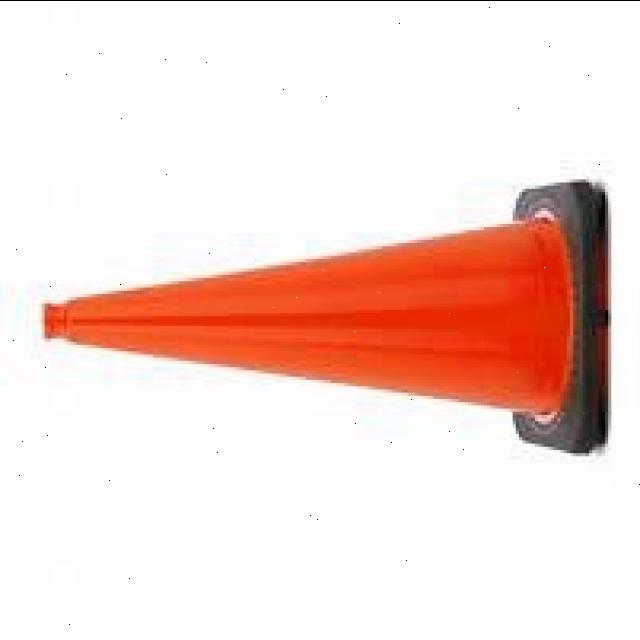traffic cone: (32, 163, 626, 462)
